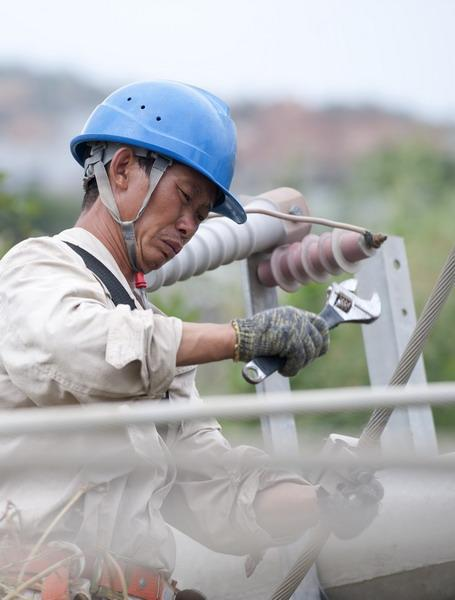helmet: (51, 64, 264, 266)
